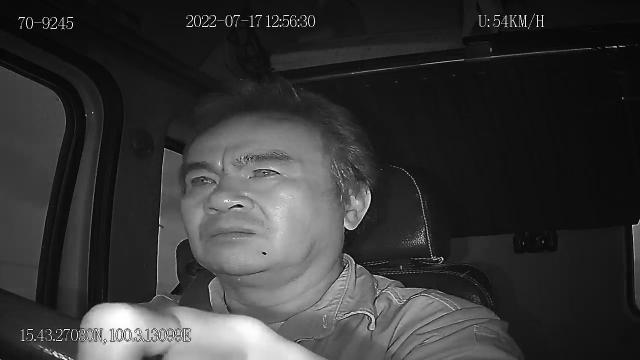SafeDriving: (238, 155, 290, 187), (182, 164, 222, 196)
Seatbelt: (174, 268, 216, 314)
